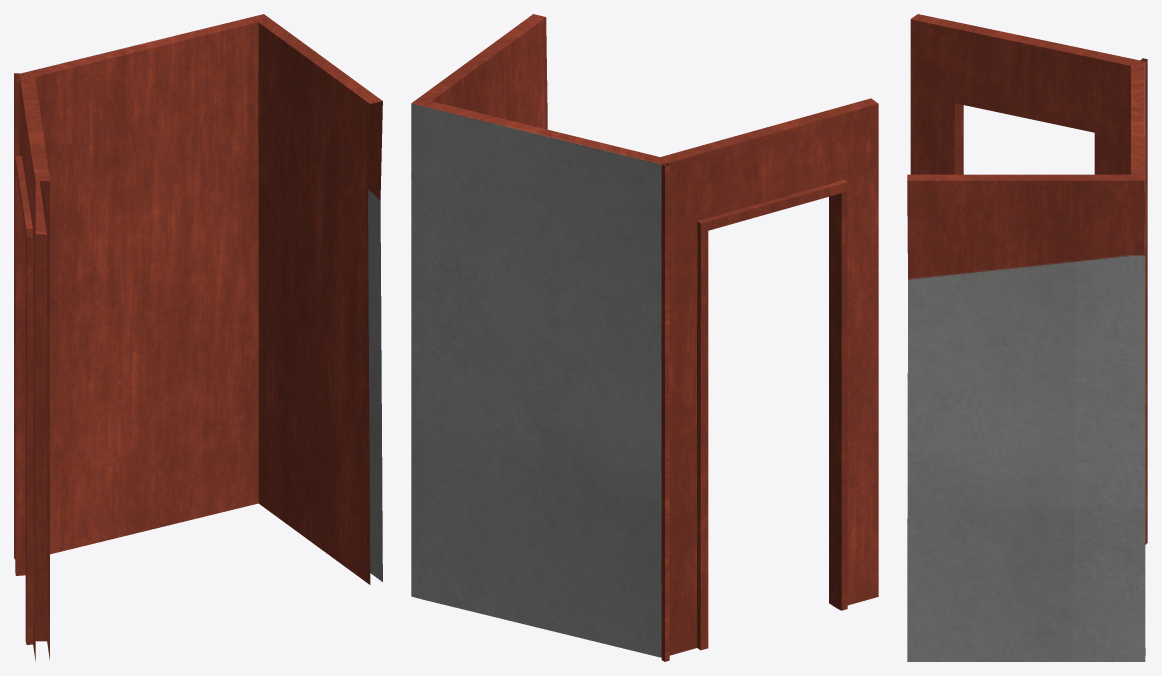
Rendered from SM_Bath_Wash_Wall.fbx.
3 renders of one model, left to right at view 1: azimuth 30°, elevation 25°; view 2: azimuth 150°, elevation 25°; view 3: azimuth 270°, elevation 25°, orthographic. The views are drawn at different scales.
Visible parts, largest first — view 1: SM_Bath_Wash_Wall; view 2: SM_Bath_Wash_Wall; view 3: SM_Bath_Wash_Wall.
Part boxes in pixels (x1,y1,x2,y2): SM_Bath_Wash_Wall: (14, 14, 382, 661); SM_Bath_Wash_Wall: (411, 14, 878, 661); SM_Bath_Wash_Wall: (907, 14, 1147, 661).
Size of the model in its own units: 193 by 118 by 261.
1 material, 1 textured.
